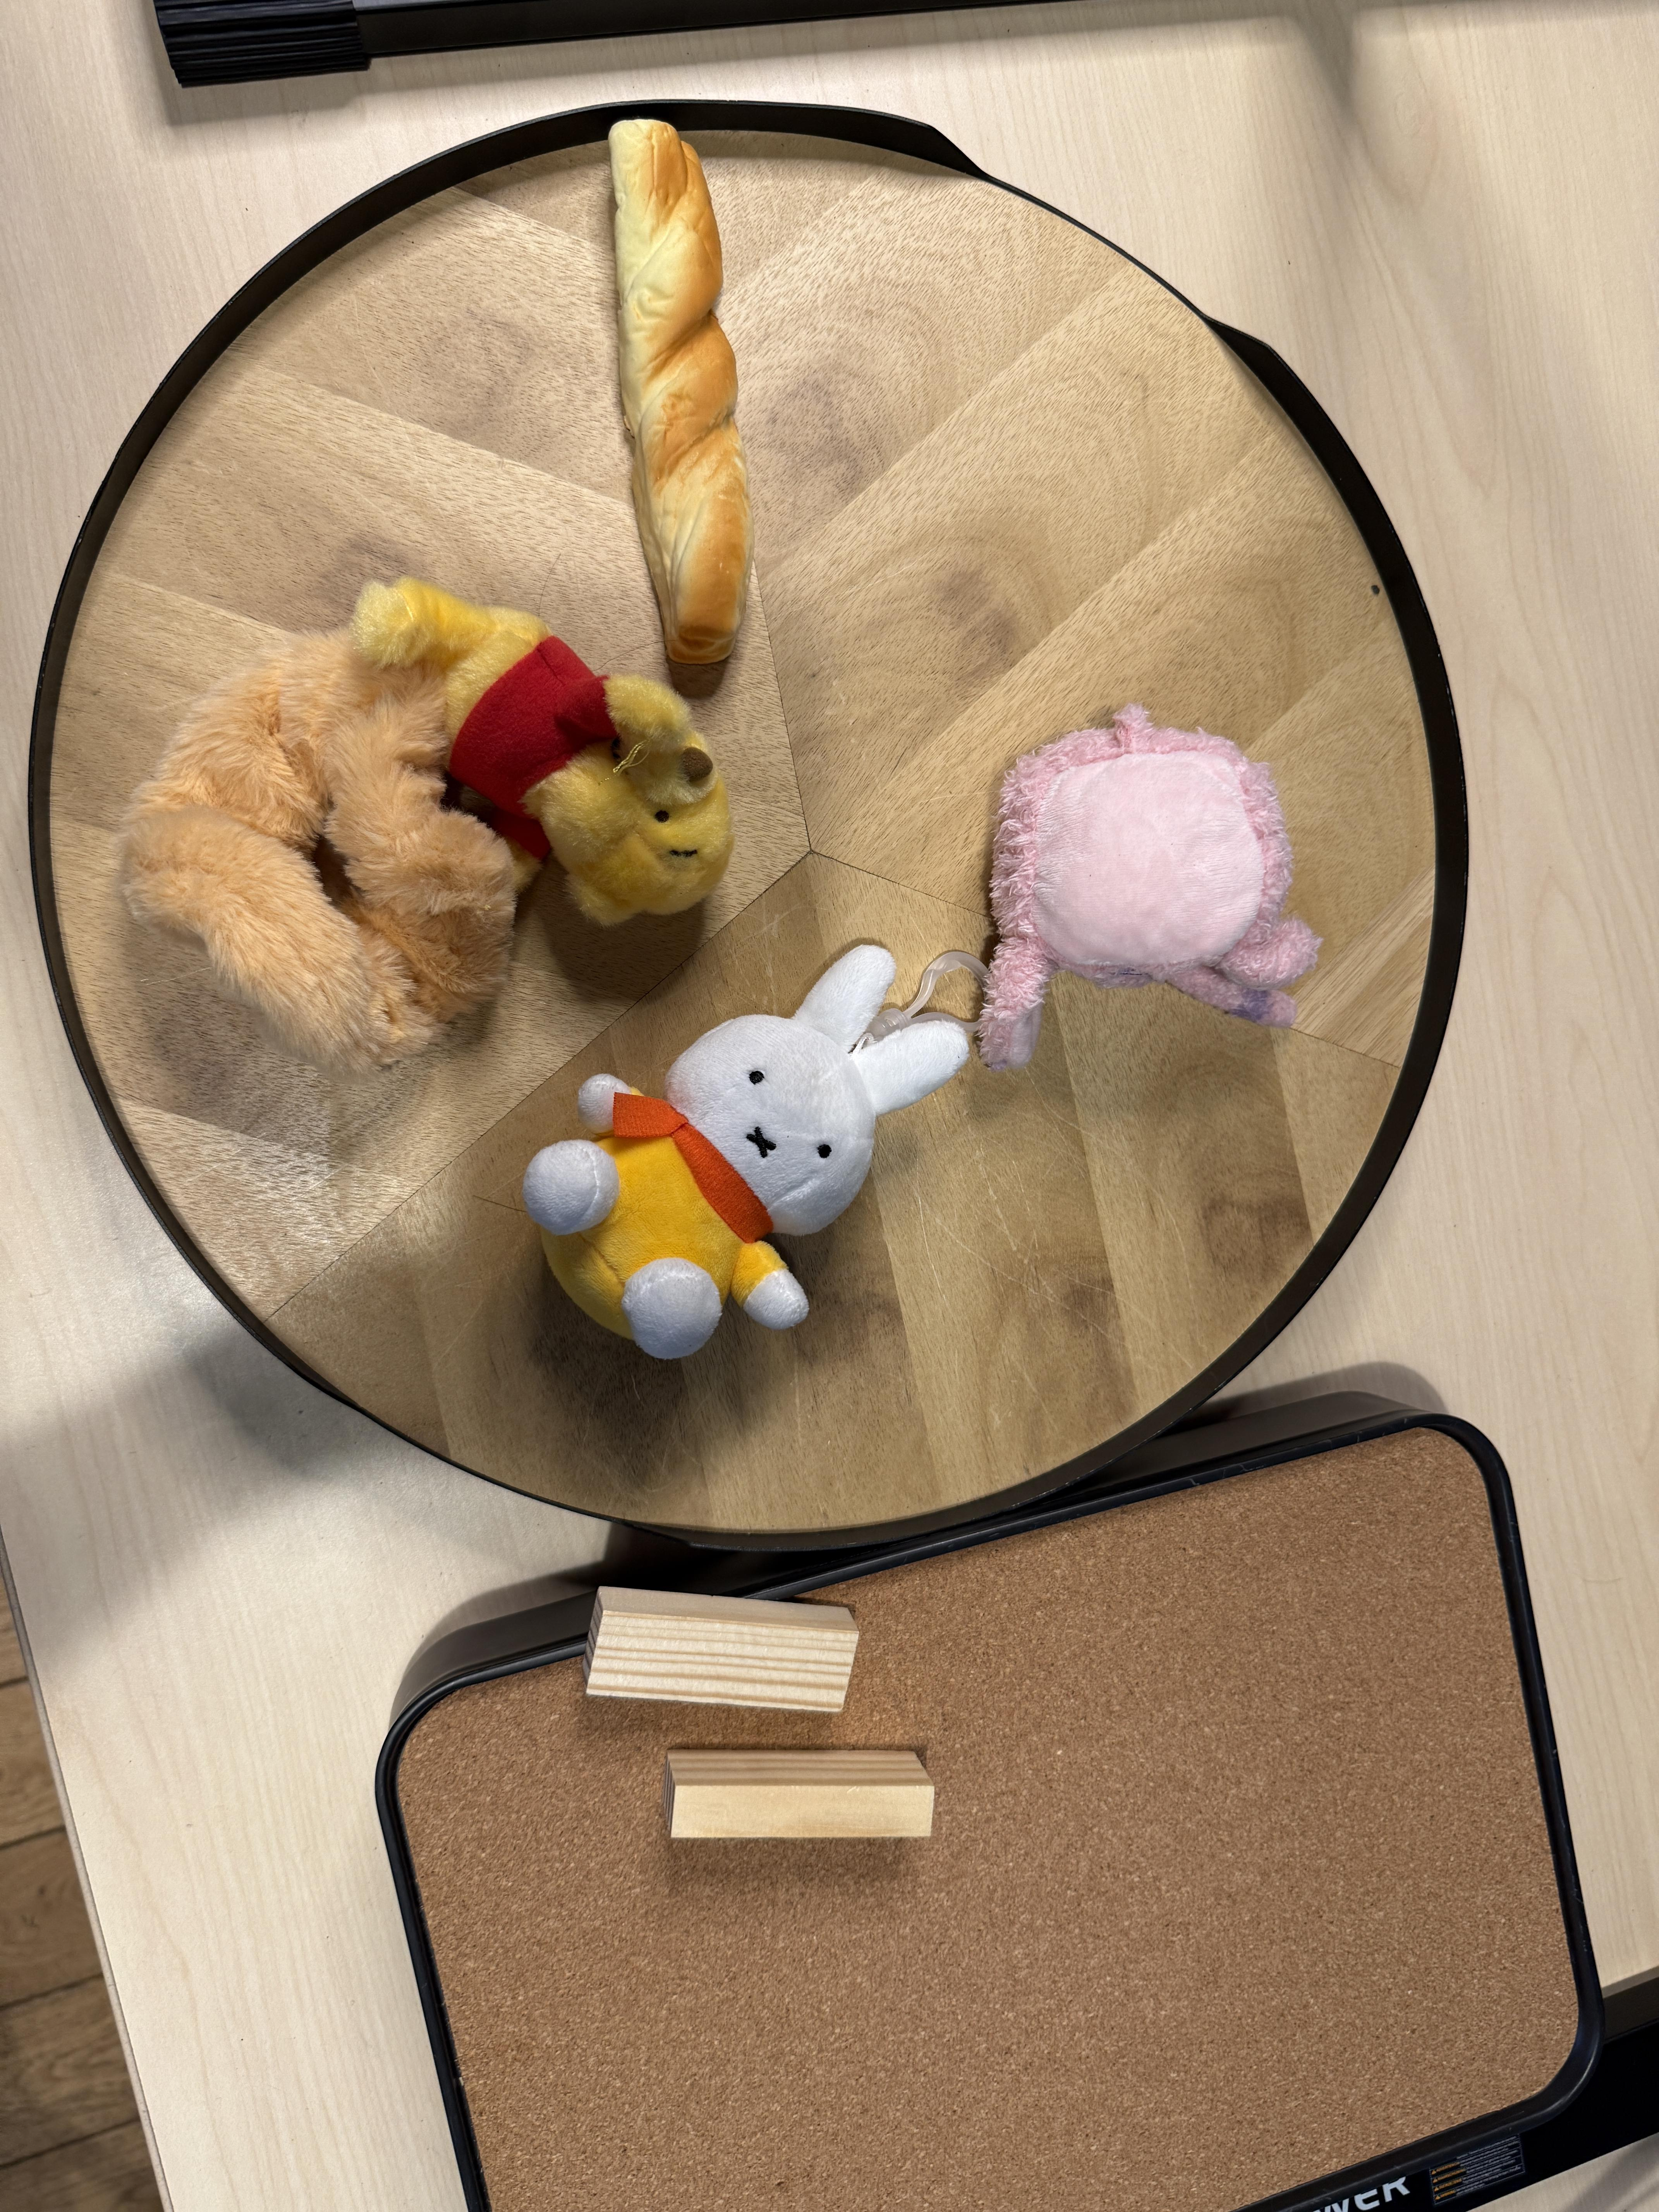block: (580, 1588, 866, 1717), (659, 1754, 943, 1850)
bread: (599, 124, 756, 653)
doll: (127, 573, 725, 1052), (976, 700, 1319, 1064)
